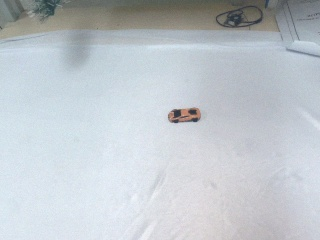toy_car: (168, 108, 201, 123)
